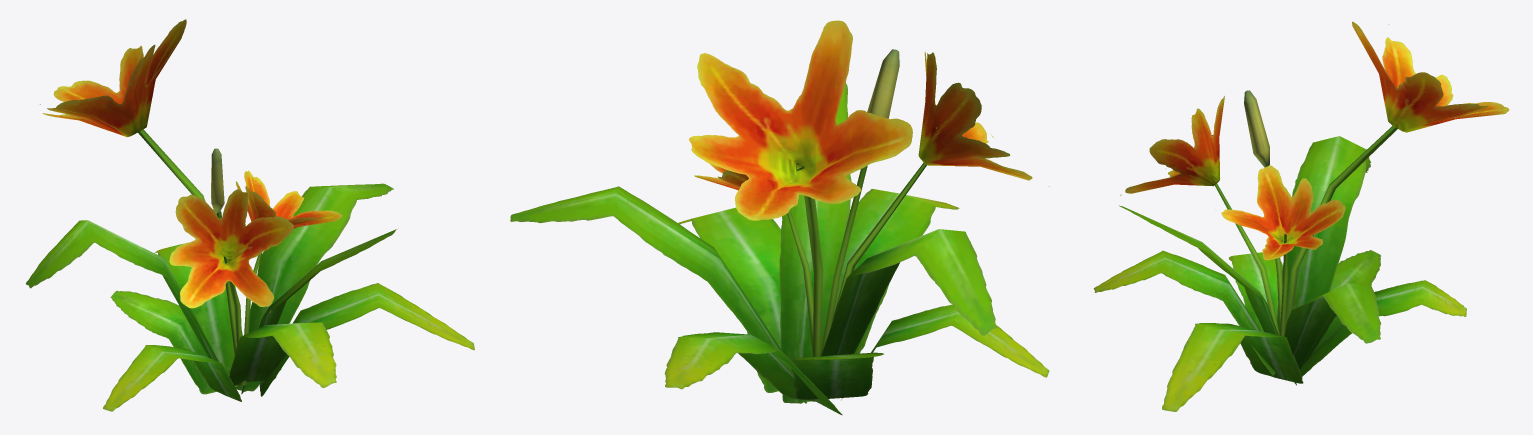
File: furni_0200906.FBX
The picture shows the model from 3 angles, left to right: view 1: azimuth 30°, elevation 25°; view 2: azimuth 150°, elevation 25°; view 3: azimuth 270°, elevation 25°; orthographic projection. The views are drawn at different scales.
Visible parts, largest first — view 1: furni_0200906; view 2: furni_0200906; view 3: furni_0200906.
Boxes of the visible parts, bbox=[...] form: furni_0200906: bbox=[26, 19, 474, 411]; furni_0200906: bbox=[510, 20, 1049, 415]; furni_0200906: bbox=[1093, 21, 1509, 411].
Bounding box in the file's own units: 77.65 × 64.9 × 75.71.
Materials: 1 (1 with a texture image).
